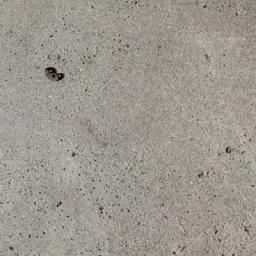FOD: (43, 63, 68, 88)
